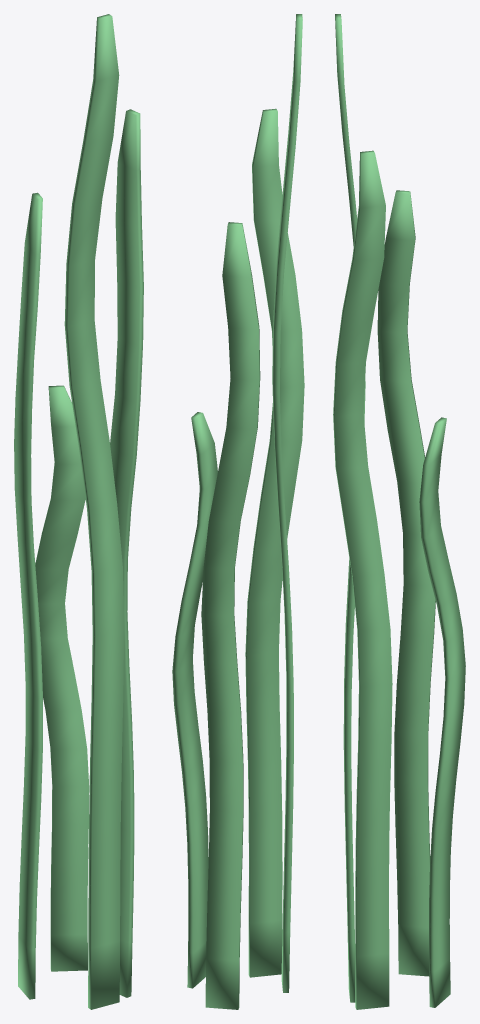
File: Medium3.fbx
The picture shows the model from 3 angles, left to right: view 1: azimuth 90°, elevation 25°; view 2: azimuth 150°, elevation 25°; view 3: azimuth 330°, elevation 25°; orthographic projection. The views are drawn at different scales.
Visible parts, largest first — view 1: Medium3_EXPORT; view 2: Medium3_EXPORT; view 3: Medium3_EXPORT.
Part boxes in pixels (x1,y1,x2,y2): Medium3_EXPORT: (14, 14, 143, 1009); Medium3_EXPORT: (172, 14, 304, 1009); Medium3_EXPORT: (333, 14, 465, 1009).
Bounding box in the file's own units: 0.8713 × 8.02 × 0.9486.
